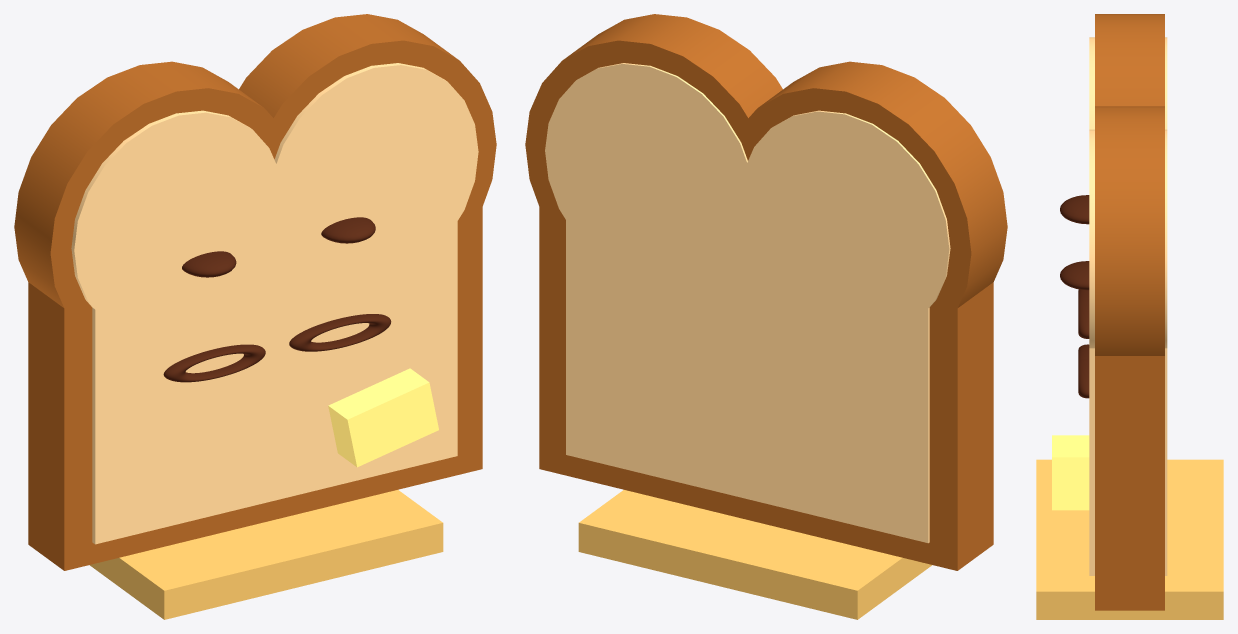
Rendered from tostada.glb.
3 views of the same model, side by side, from view 1: azimuth 30°, elevation 25°; view 2: azimuth 150°, elevation 25°; view 3: azimuth 270°, elevation 25° (orthographic). The views are drawn at different scales.
Visible parts, largest first — view 1: tostada; view 2: tostada; view 3: tostada.
Boxes of the visible parts, x1=… form: tostada: x1=14, y1=14, x2=496, y2=619; tostada: x1=525, y1=14, x2=1007, y2=619; tostada: x1=1036, y1=14, x2=1223, y2=619.
Bounding box in the file's own units: 0.32 × 0.34 × 0.12.
